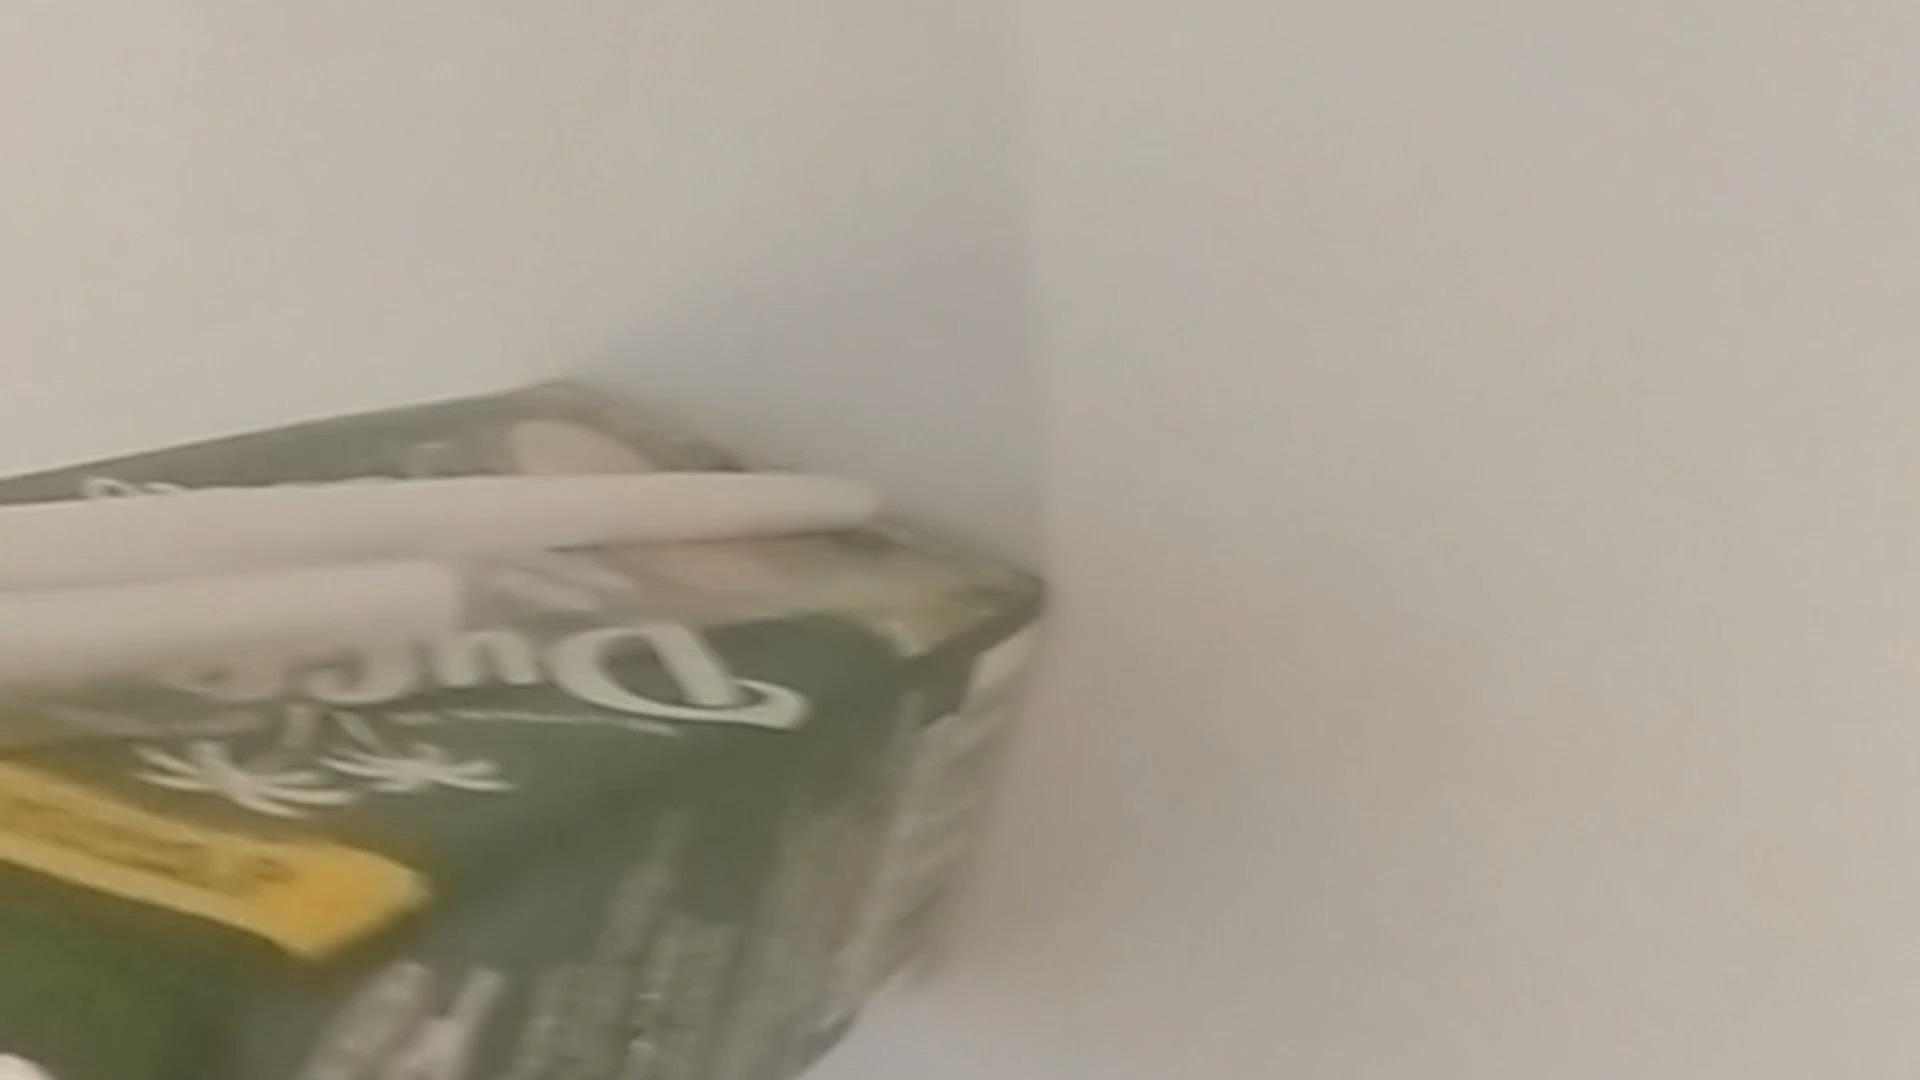coco: (0, 349, 1060, 1080)
